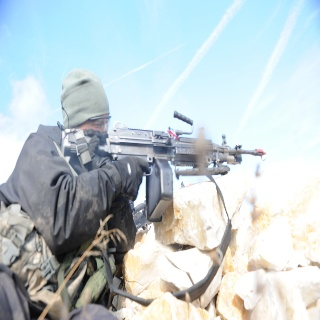rifle: (64, 110, 267, 222)
